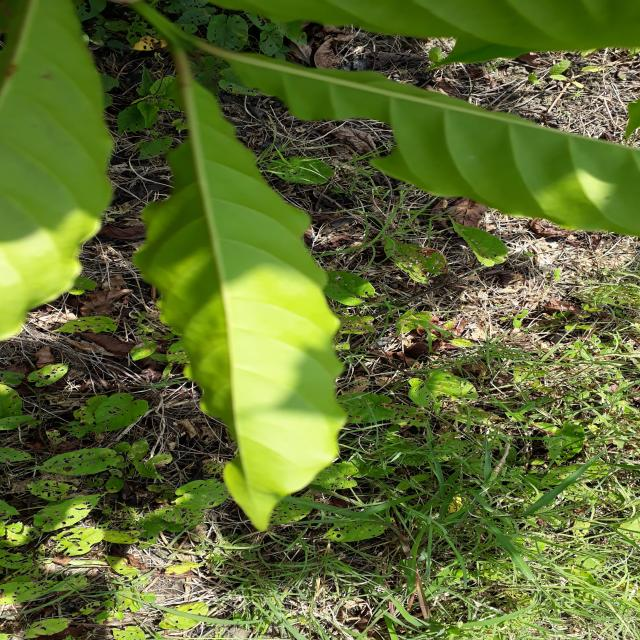Sanas: (133, 32, 350, 533)
